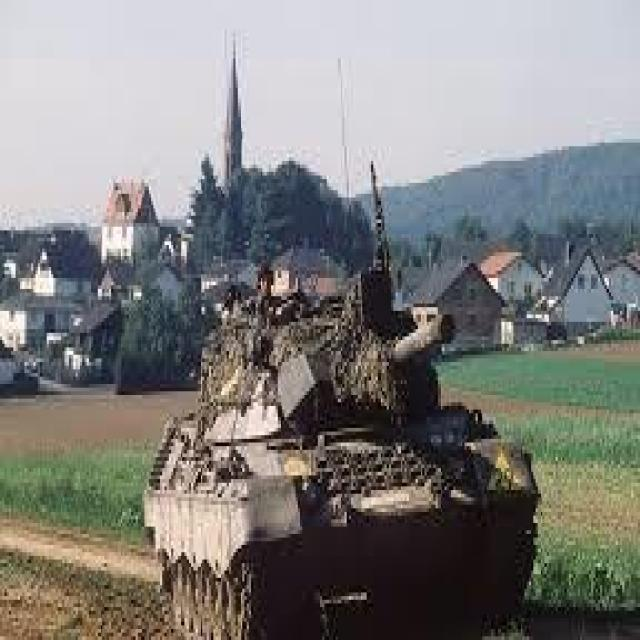Tanks: (143, 278, 541, 633)
